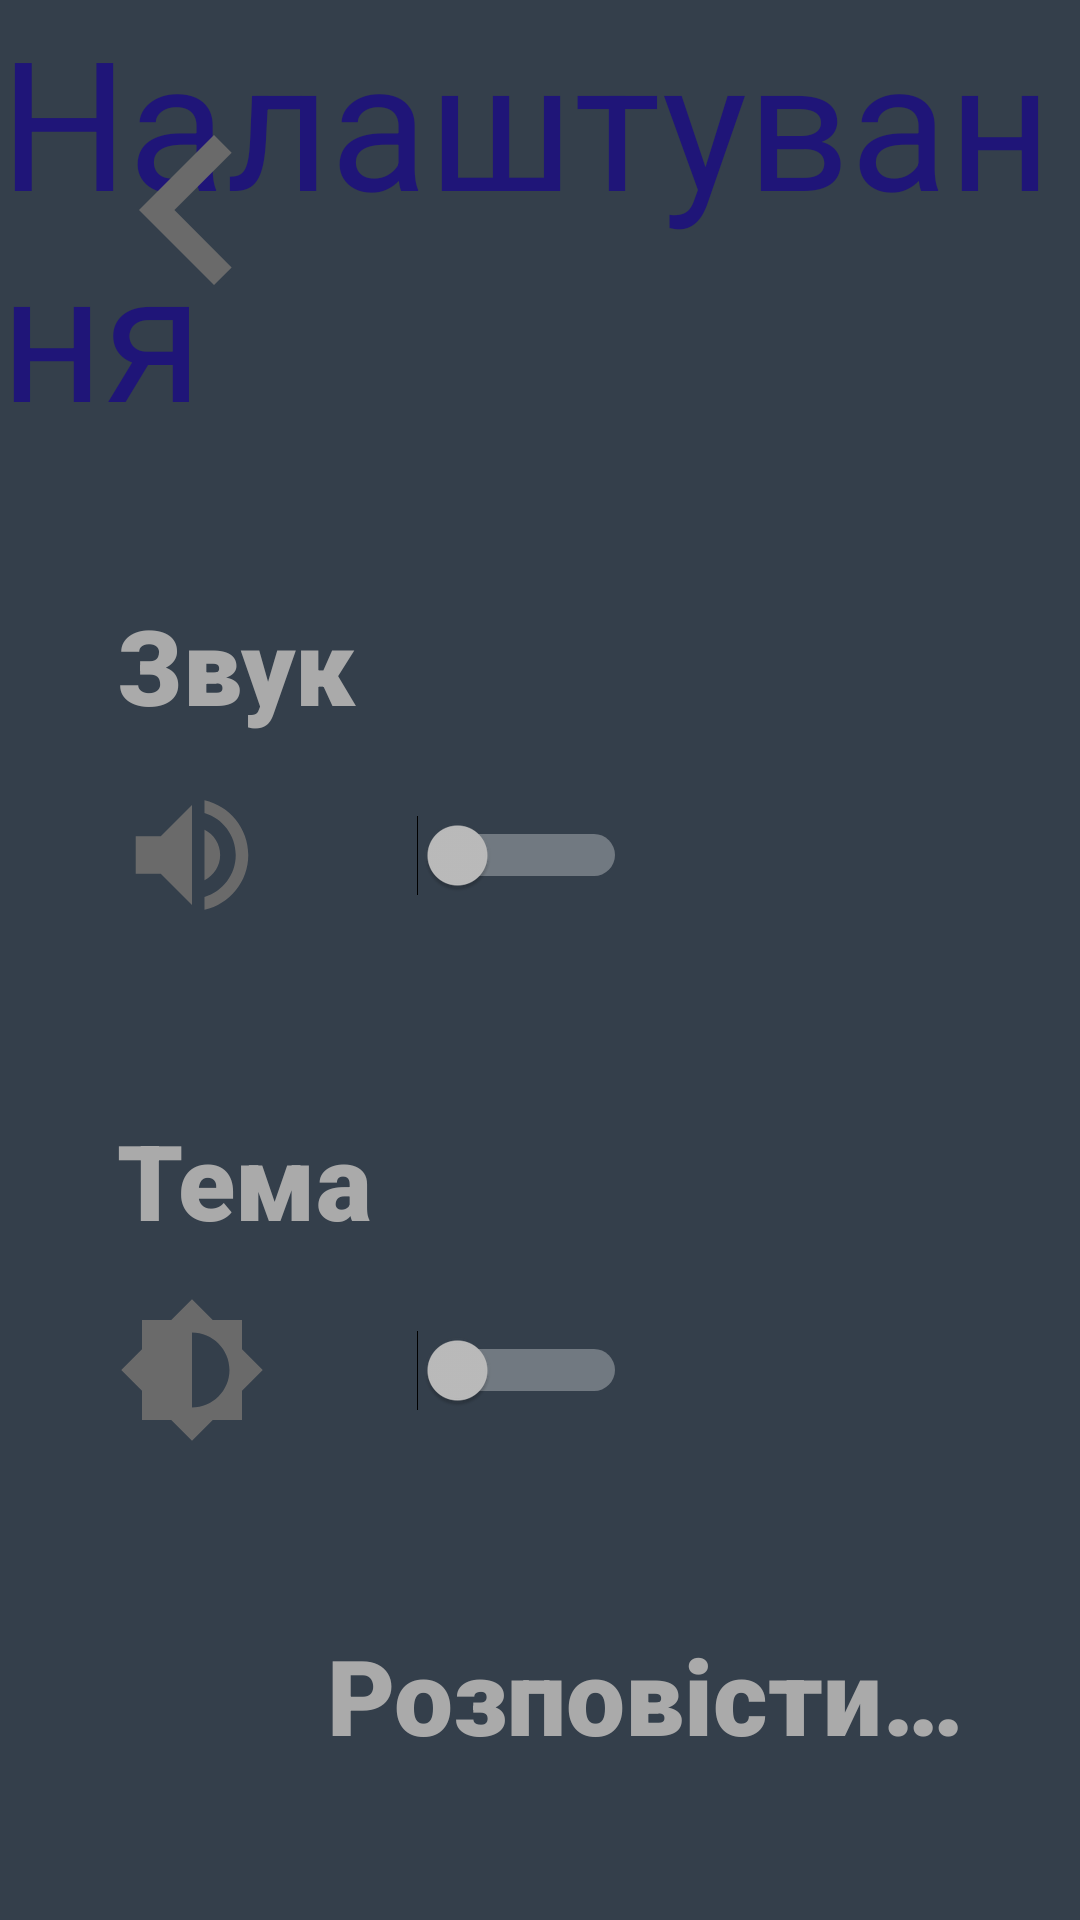

Where icons sit on this 1080 x 1920 app screen, as rect(x1, y1, x2, y2):
Go back to Menu: rect(138, 94, 316, 285)
Toggle sounds on/off: rect(136, 800, 248, 910)
Toggle theme: rect(122, 1300, 262, 1440)
